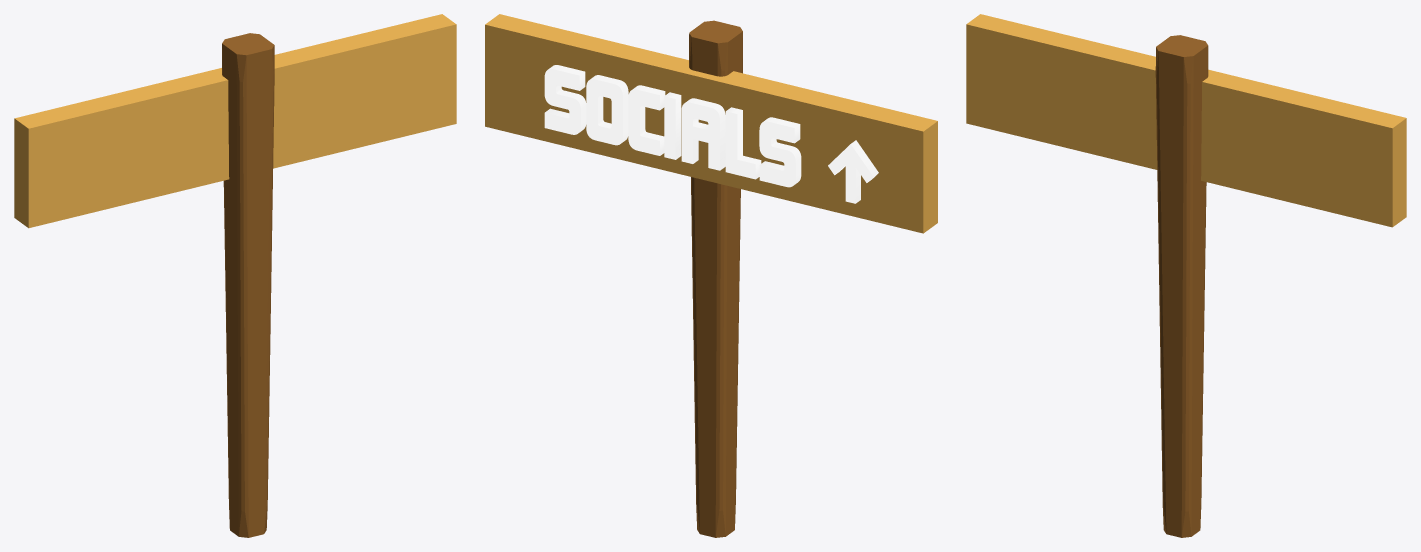
File: socialsBoard.glb
3 renders of one model, left to right at view 1: azimuth 30°, elevation 25°; view 2: azimuth 150°, elevation 25°; view 3: azimuth 330°, elevation 25°, orthographic. The views are drawn at different scales.
Parts seen in each view (by area): view 1: Cube, Cube.004; view 2: Cube, Cube.004, Text.002; view 3: Cube, Cube.004.
Part boxes in pixels (x1,y1,x2,y2): Cube: (14, 14, 456, 228); Cube.004: (222, 33, 274, 537); Cube: (485, 14, 937, 233); Cube.004: (689, 20, 742, 537); Text.002: (544, 65, 878, 203); Cube: (966, 14, 1406, 227); Cube.004: (1155, 35, 1208, 537).
Size of the model in its own units: 3.61 by 3.92 by 0.4692.
